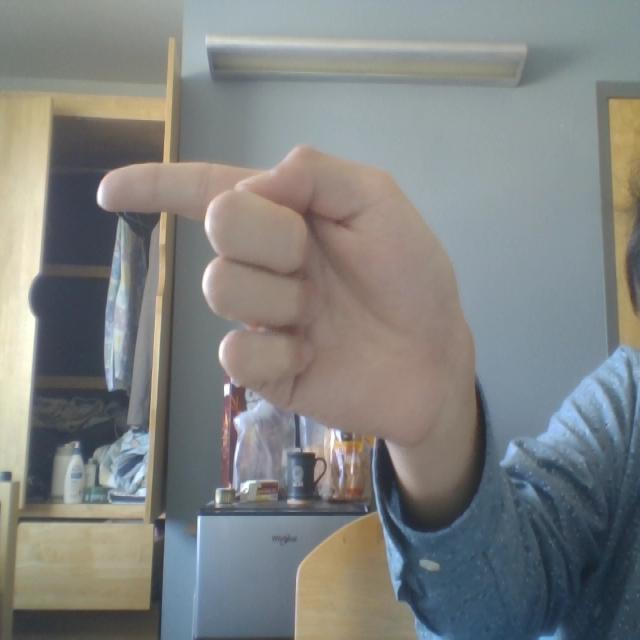G: (117, 78, 532, 536)
